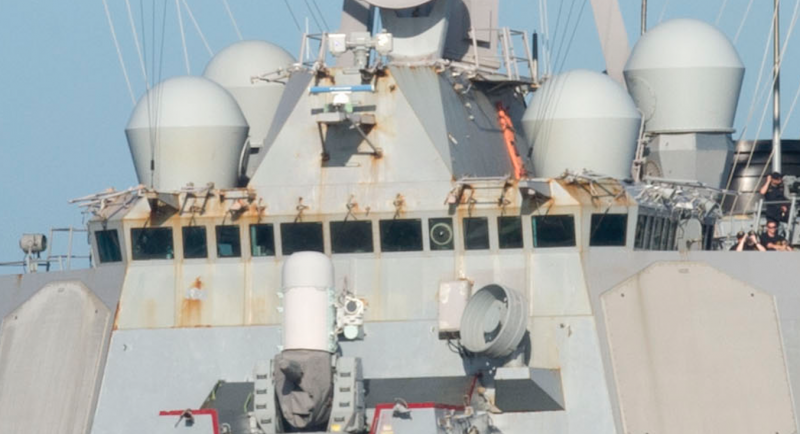rust: (152, 195, 266, 220), (552, 179, 628, 203), (182, 294, 206, 325), (452, 186, 473, 214), (393, 195, 408, 214)
